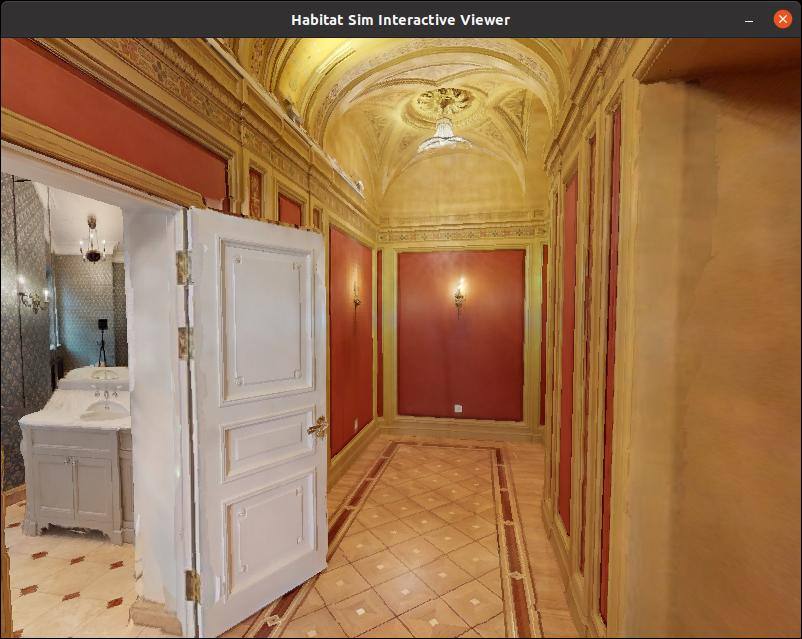door: (182, 215, 351, 624)
door-frame: (0, 117, 219, 639)
